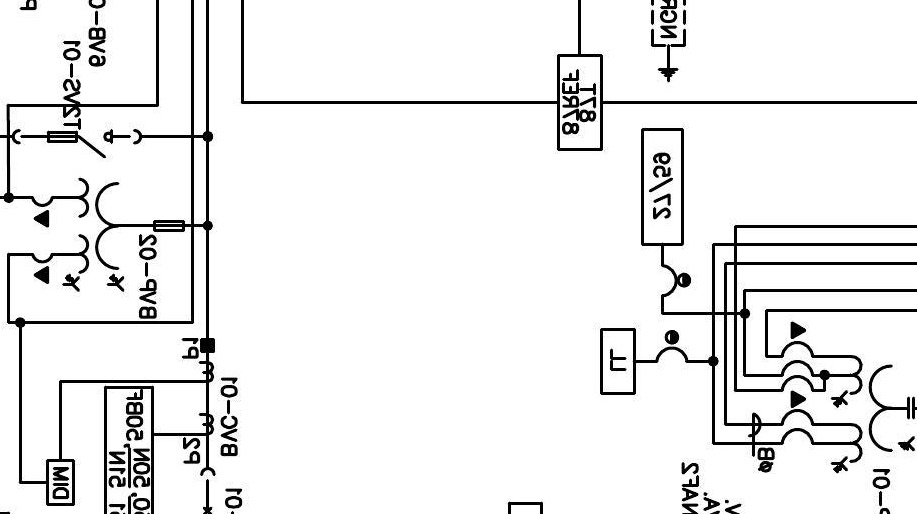115_cvt_3p: (830, 354, 915, 474)
22_ds: (12, 128, 143, 158)
22_vt_3p: (30, 177, 186, 293)
DIM: (46, 459, 75, 506)
LL: (600, 328, 636, 395)
